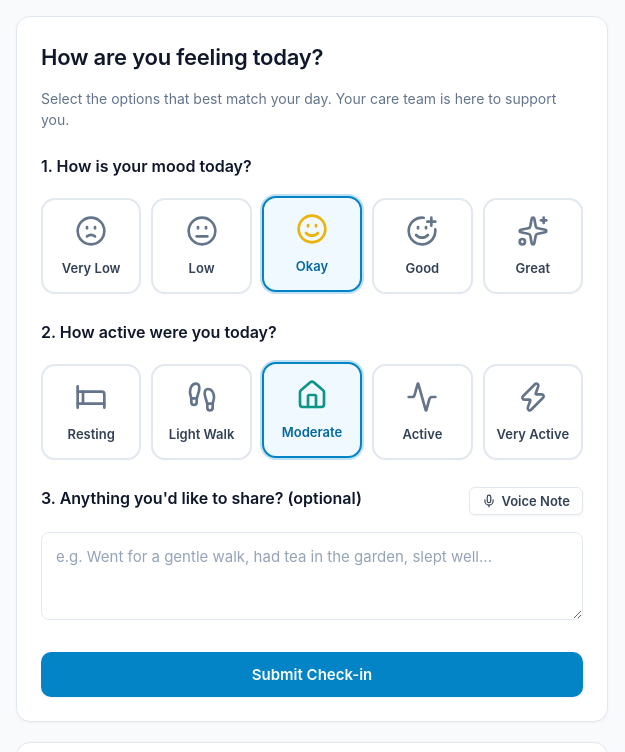
Test: ElderCheckin › handles submission error gracefully
What coordinates should you click on to do the following:
click the button "Submit Check-in"
I would click on:
 (312, 674)
Its box is [41,652,583,697].
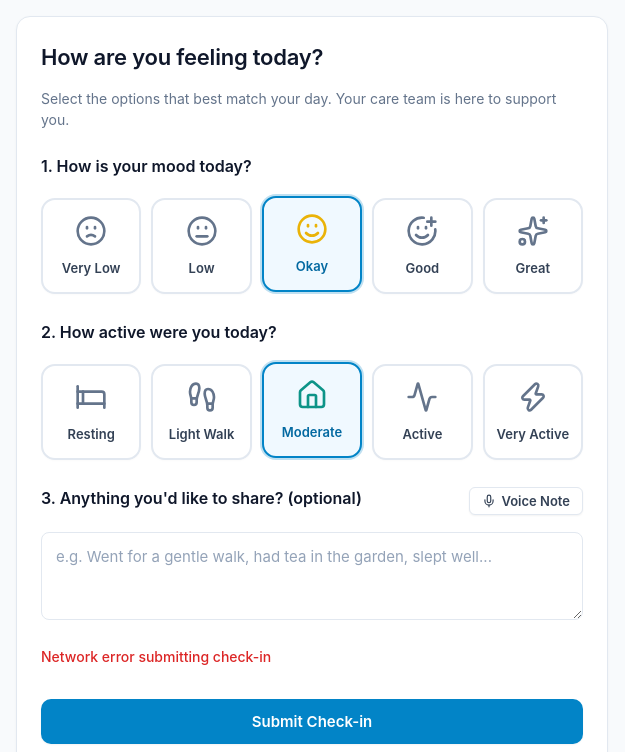
Now the text "Network error submitting check-in" is shown, box [41,648,271,665]
